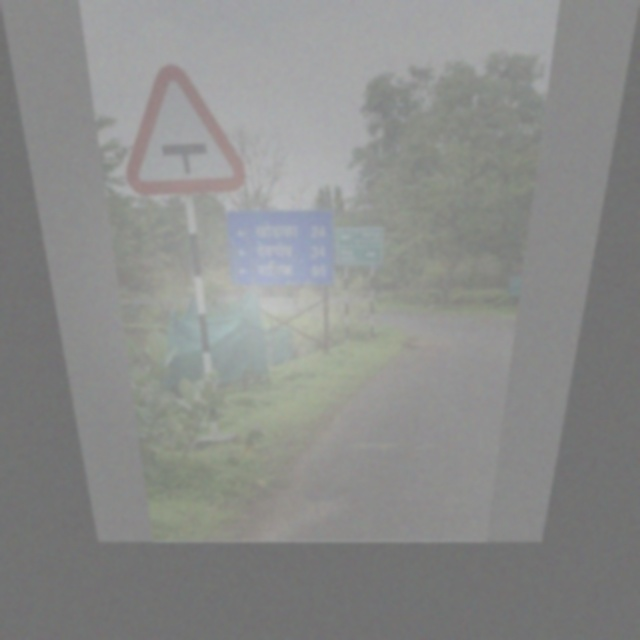T_Intersection: (111, 52, 253, 204)
